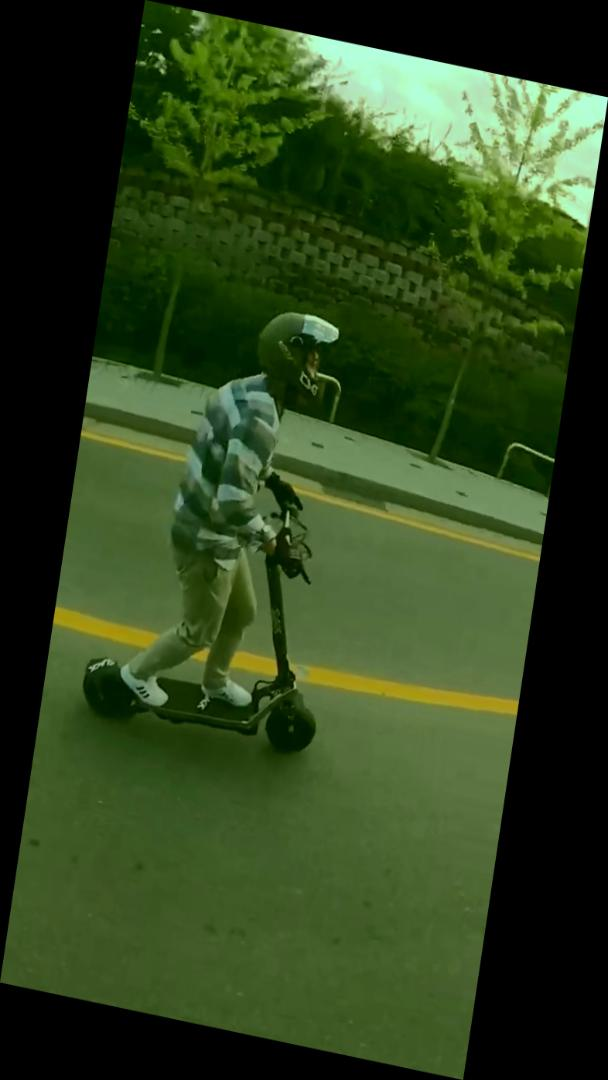helmet: (72, 273, 382, 771)
